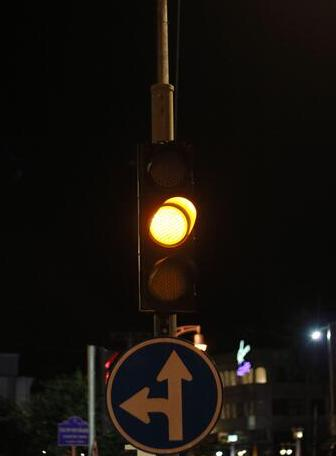yellow_light: (136, 138, 199, 311)
